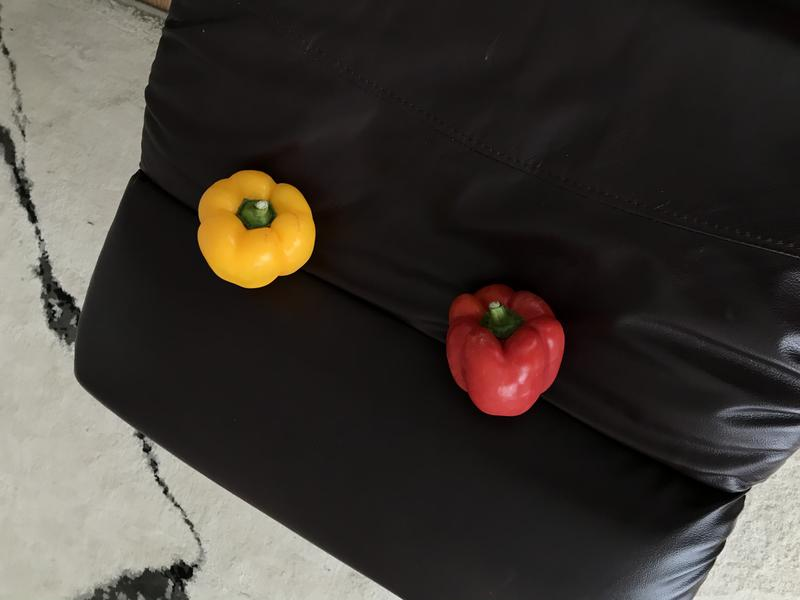red_apple: (439, 273, 571, 429)
yellow_pepper: (186, 167, 323, 299)
